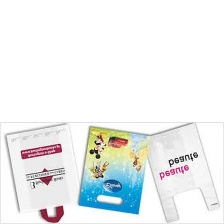plastic_bag: (140, 117, 224, 223), (0, 122, 83, 224), (72, 124, 157, 220)
